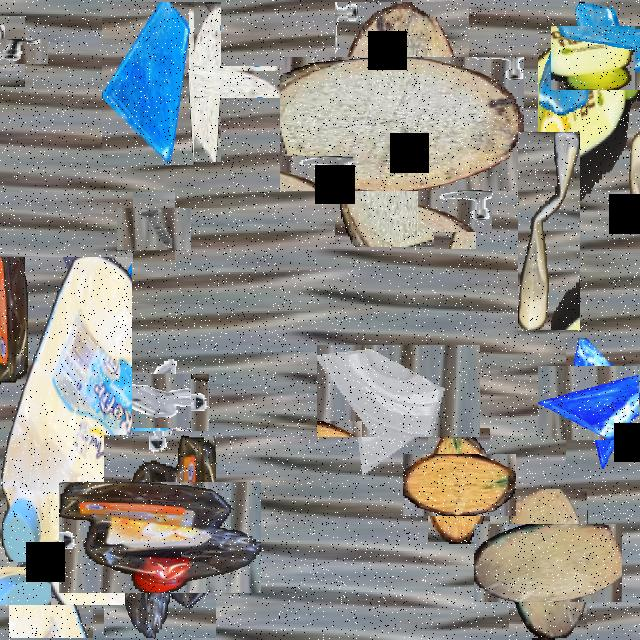glass: (334, 327, 462, 455), (102, 2, 194, 165), (0, 505, 109, 621), (551, 352, 640, 454), (562, 14, 640, 103), (0, 432, 38, 567)
metal: (116, 362, 198, 442), (426, 182, 484, 241), (125, 200, 183, 259), (0, 27, 36, 75)
plastic: (0, 257, 132, 564), (82, 458, 238, 616), (538, 32, 640, 213), (518, 132, 580, 330)
wood: (307, 30, 497, 219), (491, 507, 605, 620), (157, 34, 253, 130), (415, 442, 503, 530)
